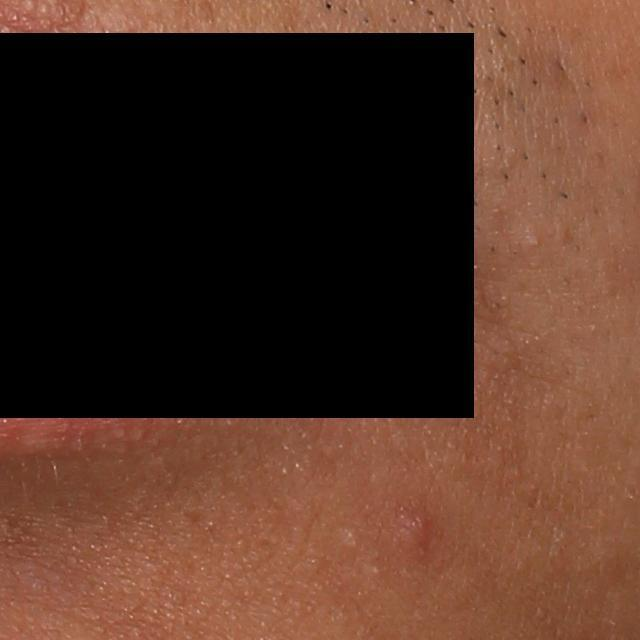comedo: (523, 229, 545, 253), (347, 530, 360, 546)
papule: (383, 502, 450, 569)
